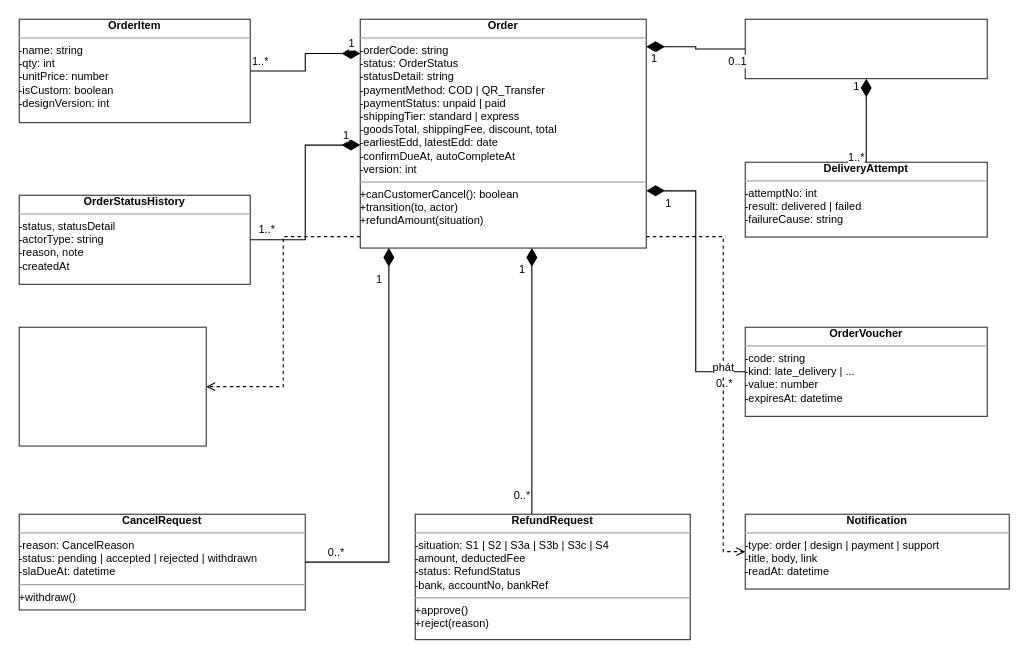
Image size: 1029x659. Some labels were removed from this diagram. The centre of each missing label's shape, as x and y in pixels:
Shipment -carrier: string -trackingCode: string: pixel 865 48
«enumeration» OrderStatus pending confirmed shipping delivered cancelled: pixel 112 386
